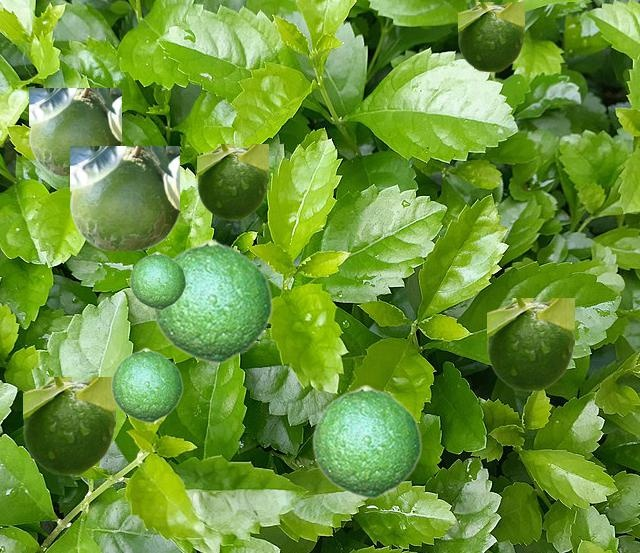dalandan: (151, 238, 272, 363), (311, 384, 421, 498), (70, 146, 178, 249), (23, 377, 114, 474), (487, 298, 573, 390), (29, 88, 120, 174), (110, 347, 182, 422), (197, 144, 267, 219), (458, 2, 523, 71), (129, 251, 185, 309)
